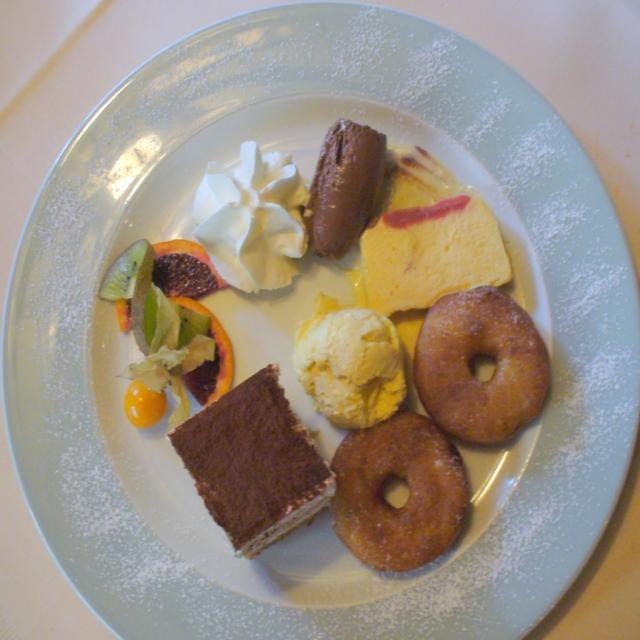Bagel: (416, 286, 550, 456), (334, 414, 471, 574)
